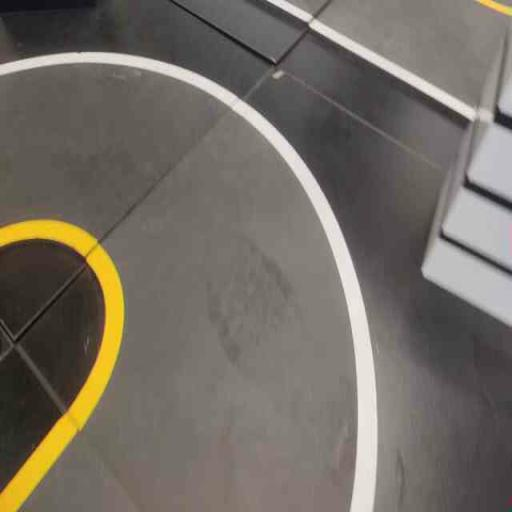left: (12, 80, 411, 511)
